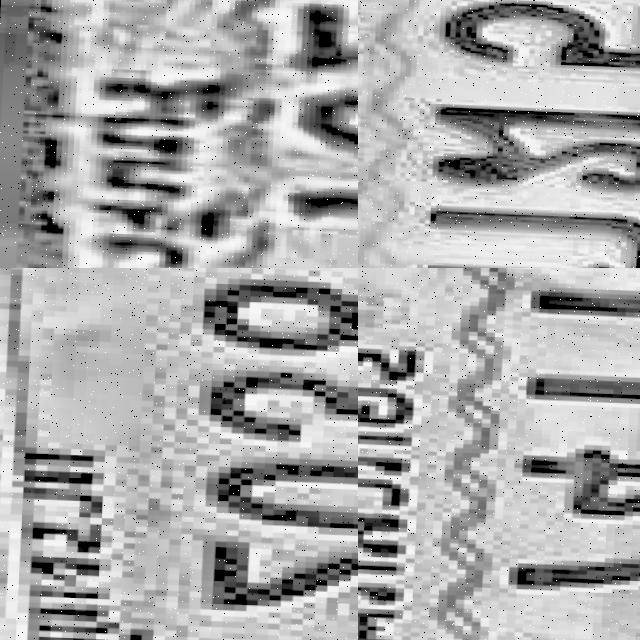license-plate: (0, 268, 358, 640), (358, 268, 640, 640), (0, 0, 358, 268), (358, 0, 640, 268)
